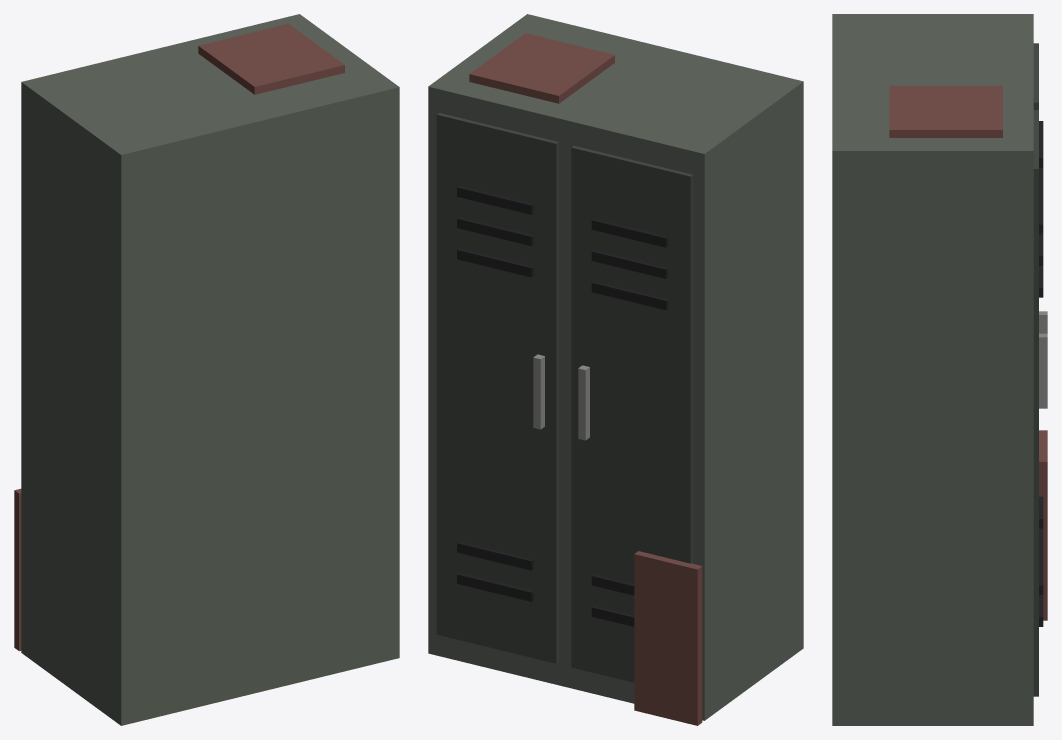
File: oc_lockers.obj
The picture shows the model from 3 angles, left to right: view 1: azimuth 30°, elevation 25°; view 2: azimuth 150°, elevation 25°; view 3: azimuth 270°, elevation 25°; orthographic projection.
Visible parts, largest first — view 1: oc_lockers_0, oc_lockers_16, oc_lockers_15; view 2: oc_lockers_0, oc_lockers_8, oc_lockers_1, oc_lockers_15, oc_lockers_16, oc_lockers_3, oc_lockers_2, oc_lockers_4, oc_lockers_11, oc_lockers_10, oc_lockers_13, oc_lockers_9 (+3 smaller); view 3: oc_lockers_0, oc_lockers_16, oc_lockers_8, oc_lockers_15, oc_lockers_14, oc_lockers_1.
Boxes of the visible parts, left/top/right/bottom form: oc_lockers_0: left=21, top=14, right=399, bottom=725; oc_lockers_16: left=198, top=23, right=344, bottom=94; oc_lockers_15: left=14, top=488, right=21, bottom=651; oc_lockers_0: left=428, top=14, right=803, bottom=720; oc_lockers_8: left=436, top=113, right=558, bottom=663; oc_lockers_1: left=571, top=145, right=693, bottom=682; oc_lockers_15: left=634, top=551, right=702, bottom=725; oc_lockers_16: left=469, top=33, right=614, bottom=103; oc_lockers_3: left=591, top=250, right=668, bottom=278; oc_lockers_2: left=591, top=218, right=668, bottom=247; oc_lockers_4: left=591, top=281, right=668, bottom=310; oc_lockers_11: left=457, top=248, right=533, bottom=277; oc_lockers_10: left=457, top=217, right=533, bottom=246; oc_lockers_13: left=457, top=541, right=533, bottom=570; oc_lockers_9: left=457, top=186, right=533, bottom=214; oc_lockers_0: left=832, top=14, right=1033, bottom=725; oc_lockers_16: left=889, top=85, right=1002, bottom=137; oc_lockers_8: left=1033, top=110, right=1038, bottom=696; oc_lockers_15: left=1039, top=430, right=1047, bottom=620; oc_lockers_14: left=1039, top=333, right=1047, bottom=408; oc_lockers_1: left=1033, top=43, right=1038, bottom=109.
Size of the model in its own units: 0.74 by 1.47 by 0.492.
